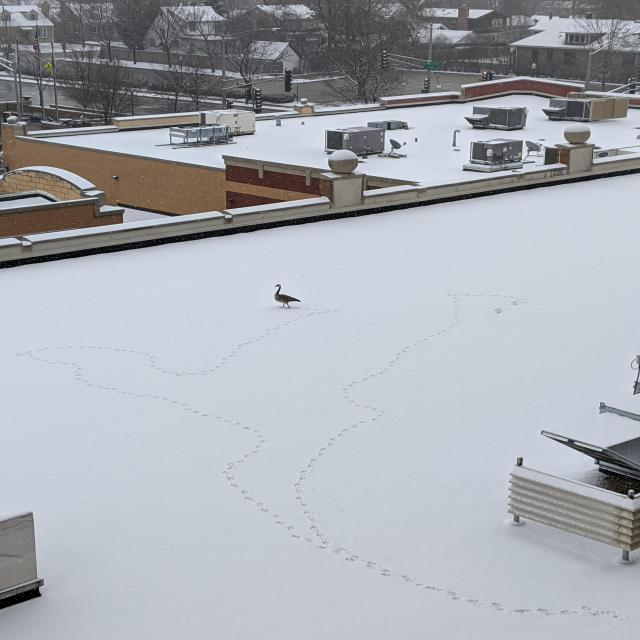bird: (274, 284, 302, 309)
